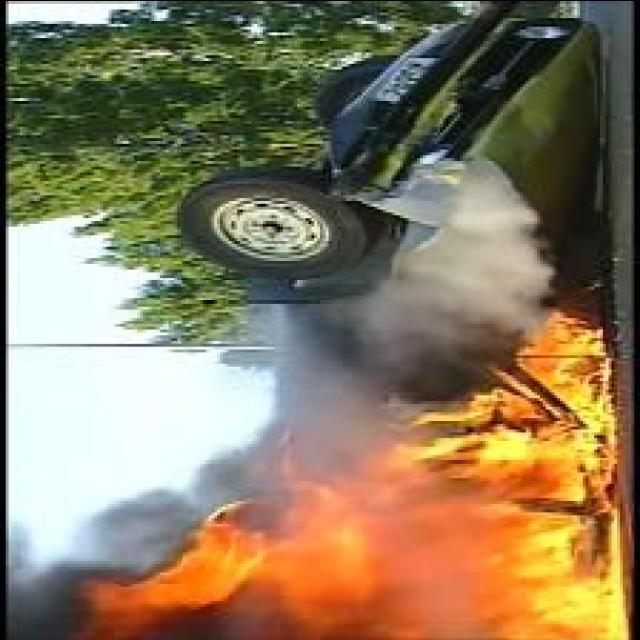Fire: (74, 303, 626, 640)
